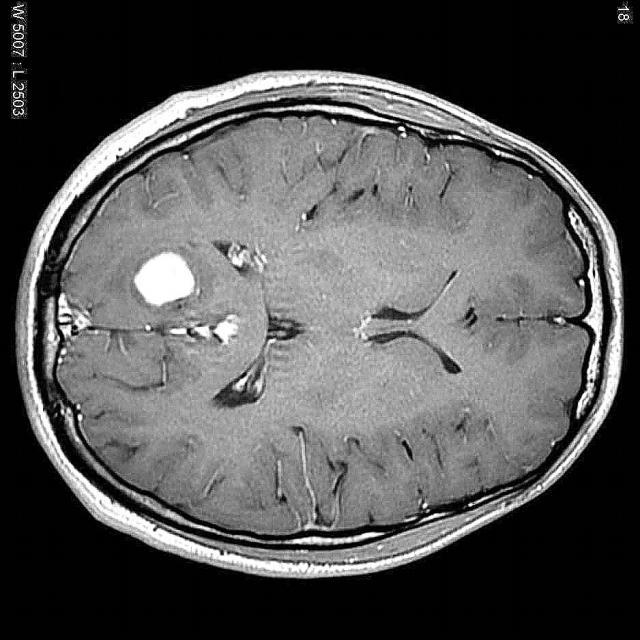tumor: (128, 247, 204, 318)
